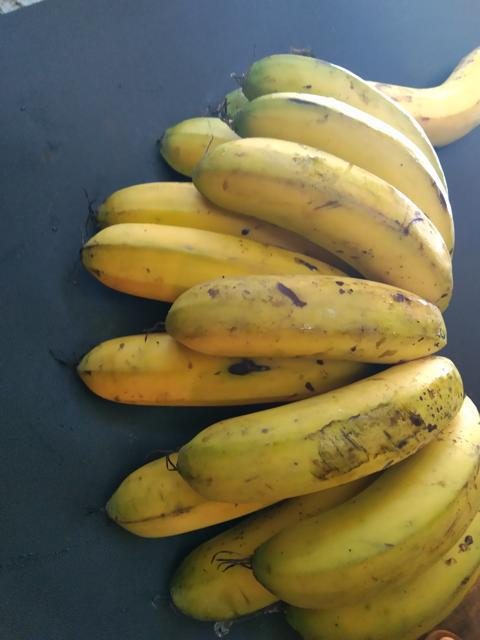ripe: (169, 365, 466, 512), (254, 87, 479, 271), (204, 138, 461, 292), (265, 431, 474, 606), (163, 279, 455, 370), (67, 219, 343, 301), (39, 322, 255, 413), (143, 546, 309, 629), (84, 467, 238, 537)
